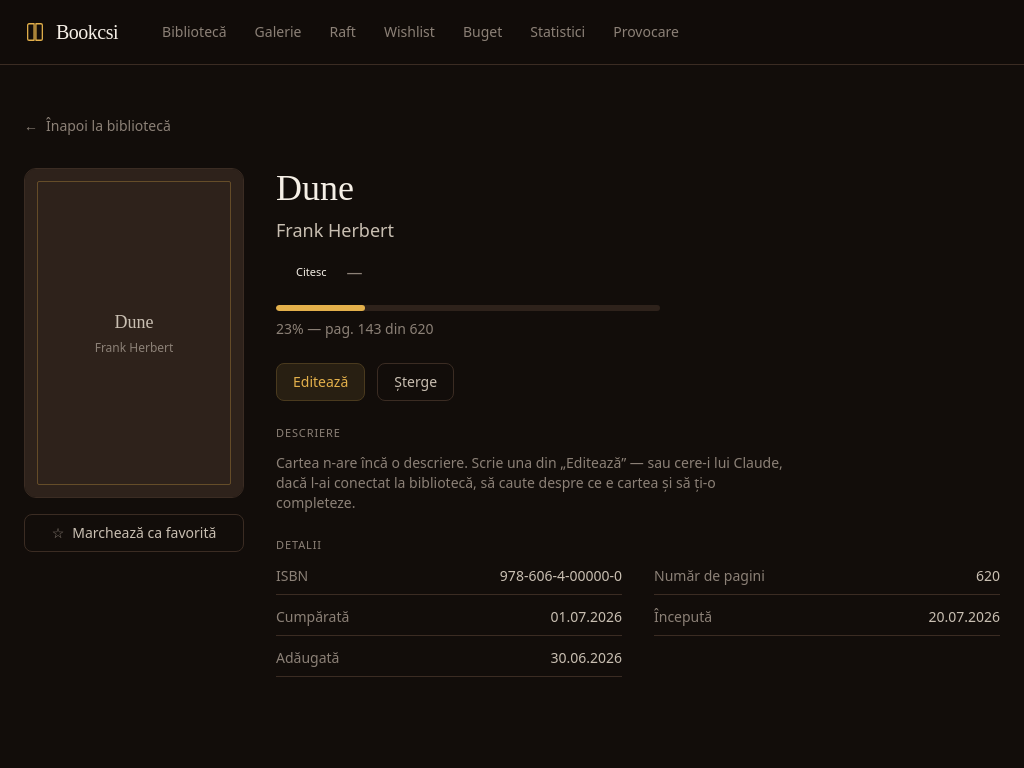
Test: BookProfilePage — the book itself (§D40) › opens the edit form on the same book
This screenshot has width=1024, height=768.
Click the button "Editează".
click(321, 382)  # box x1=276 y1=362 x2=365 y2=400
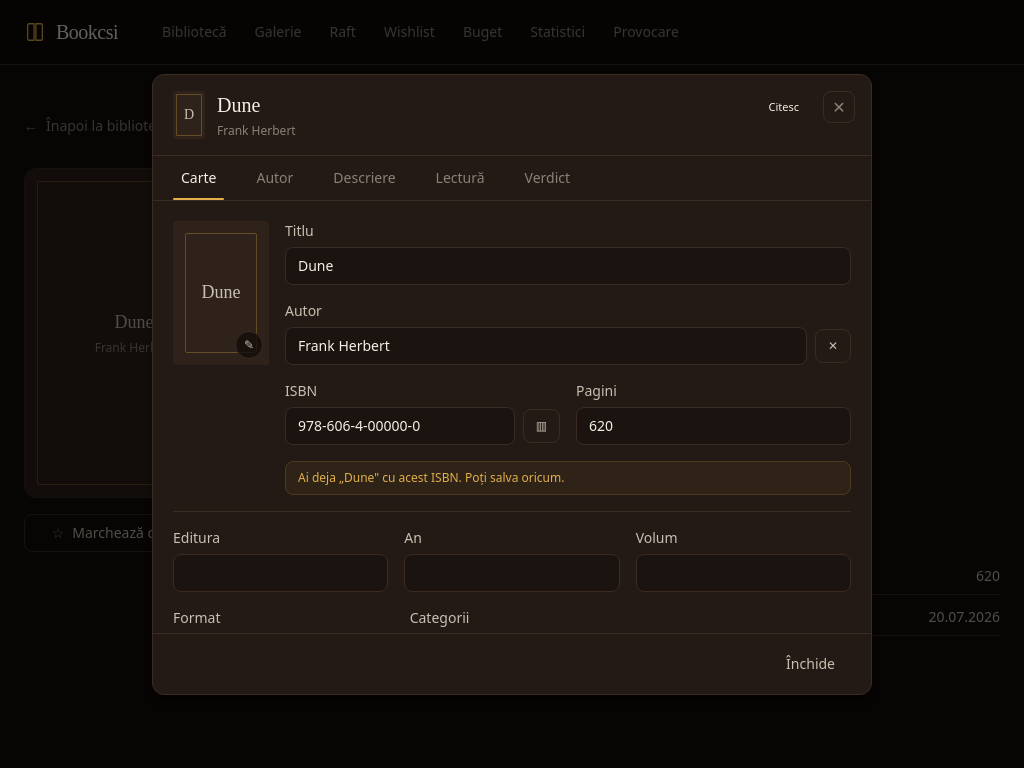
Check: the dialog named "Editează cartea" is shown, box x1=152 y1=74 x2=872 y2=694
Check: the field showing "Dune" is shown, box x1=285 y1=246 x2=851 y2=284
